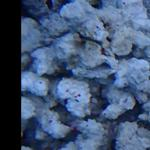dead: (28, 5, 146, 146)
